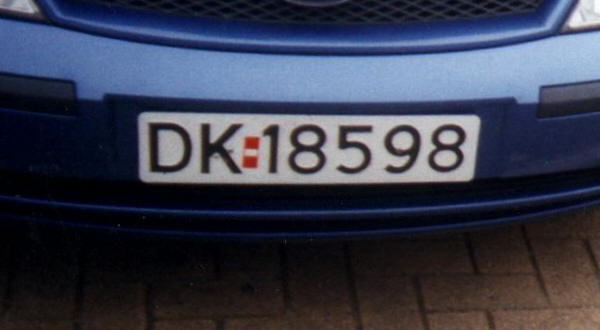license_plate: (136, 110, 481, 184)
